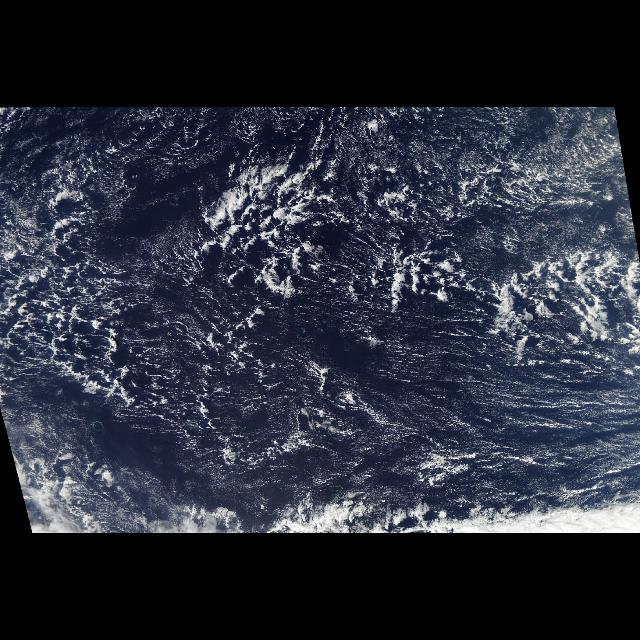Gravel: (1, 116, 640, 496)
Sugar: (396, 351, 640, 504), (396, 108, 622, 206)
